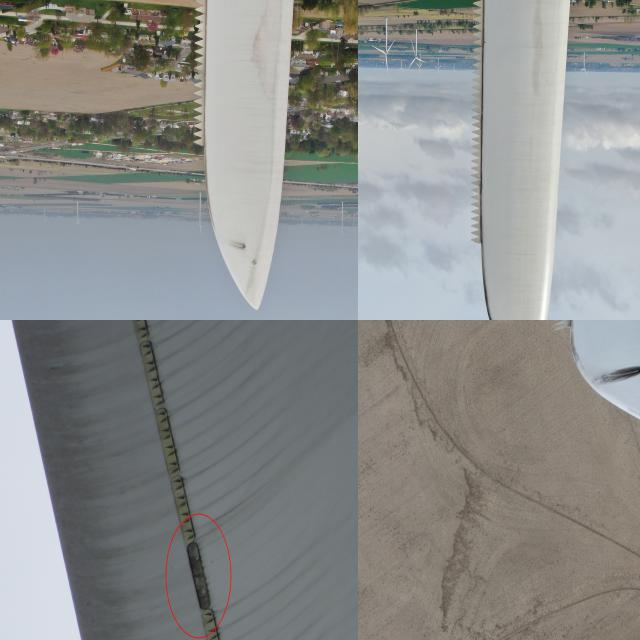damage: (177, 532, 221, 616), (591, 356, 639, 389), (241, 243, 245, 251)
